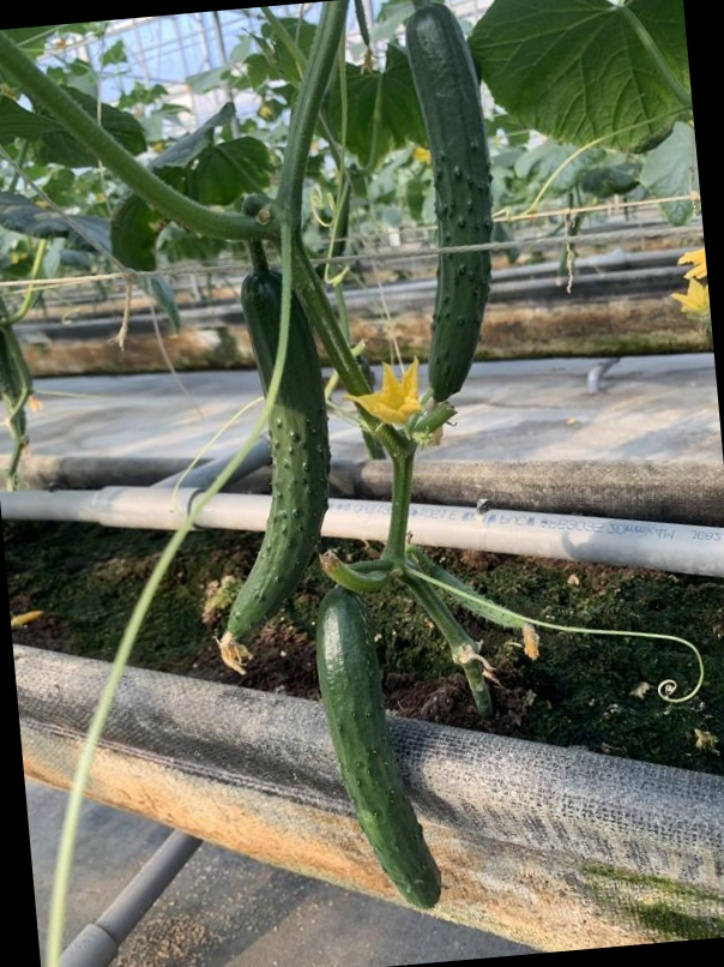mature: (310, 584, 446, 918), (395, 12, 501, 403), (224, 264, 327, 651)
